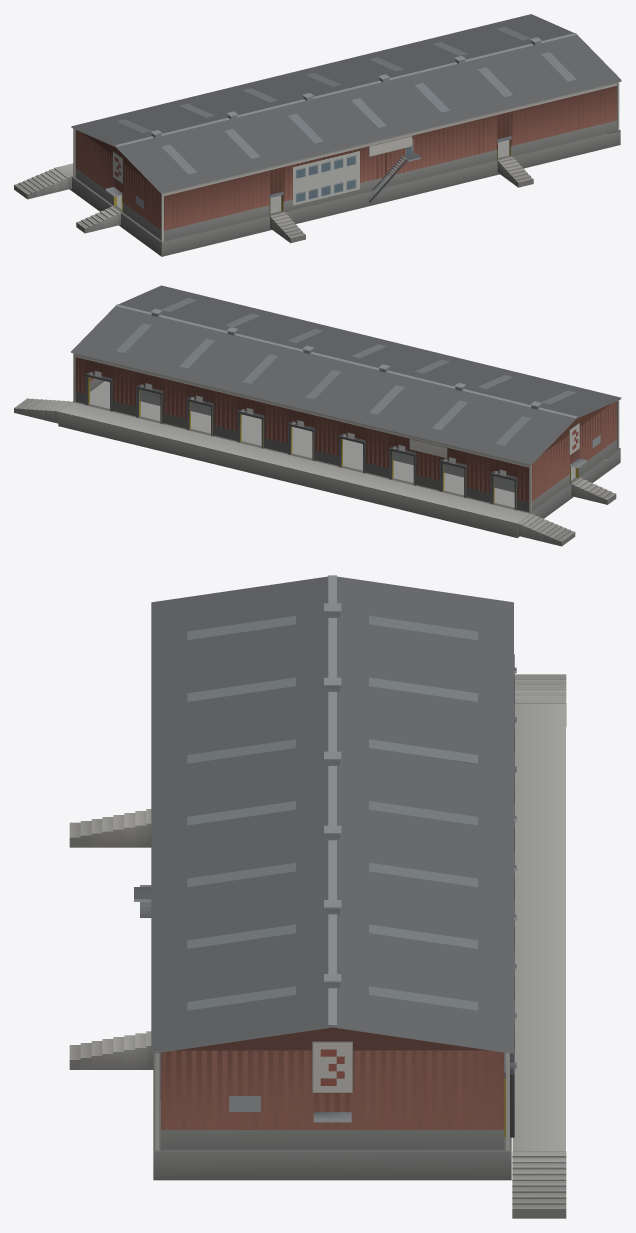
The model's file is shed_c.lod.glb.
3 renders of one model, top to bottom at view 1: azimuth 30°, elevation 25°; view 2: azimuth 150°, elevation 25°; view 3: azimuth 270°, elevation 25°, orthographic. The views are drawn at different scales.
Visible parts, largest first — view 1: shed_c; view 2: shed_c; view 3: shed_c.
Boxes of the visible parts, x1,y1,x2,y2 form: shed_c: (14,14,621,256); shed_c: (14,285,621,546); shed_c: (69,575,566,1218).
Bounding box in the file's own units: 86.6 × 12.4 × 34.
